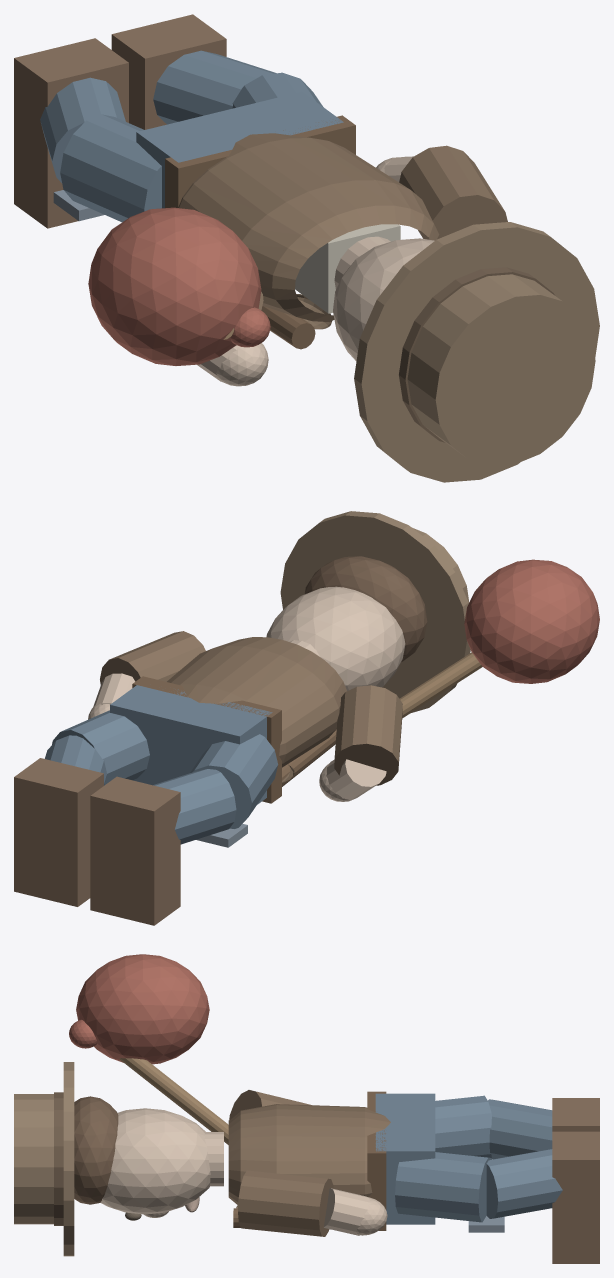
Rendered from George_walk_04.glb.
3 renders of one model, top to bottom at view 1: azimuth 30°, elevation 25°; view 2: azimuth 150°, elevation 25°; view 3: azimuth 270°, elevation 25°, orthographic. The views are drawn at different scales.
Visible parts, largest first — view 1: hat_crown, worn_cream_work_shirt, tied_cloth_bindle, weathered_felt_hat_brim, work_boot_-1, denim_thigh_-1, faded_blue_denim_waist, rolled_shirt_sleeve_1, work_boot_1, denim_calf_1, fair_skin_face, denim_calf_-1 (+8 smaller); view 2: tied_cloth_bindle, weathered_felt_hat_brim, work_boot_-1, worn_cream_work_shirt, work_boot_1, fair_skin_face, faded_blue_denim_waist, rolled_shirt_sleeve_-1, short_brown_hair, denim_thigh_-1, denim_calf_-1, denim_thigh_1 (+8 smaller); view 3: tied_cloth_bindle, worn_cream_work_shirt, fair_skin_face, work_boot_1, denim_thigh_1, hat_crown, rolled_shirt_sleeve_1, faded_blue_denim_waist, denim_calf_1, short_brown_hair, denim_thigh_-1, denim_calf_-1 (+11 smaller).
Part boxes in pixels (box(x1,y1,x2,y2)): hat_crown: box(407, 274, 595, 465); worn_cream_work_shirt: box(178, 133, 439, 329); tied_cloth_bindle: box(88, 207, 261, 365); weathered_felt_hat_brim: box(354, 222, 599, 482); work_boot_-1: box(14, 38, 128, 228); denim_thigh_-1: box(60, 114, 161, 222); faded_blue_denim_waist: box(136, 91, 343, 208); rolled_shirt_sleeve_1: box(399, 145, 507, 239); work_boot_1: box(111, 14, 226, 129); denim_calf_1: box(153, 50, 276, 124); fair_skin_face: box(333, 238, 434, 361); denim_calf_-1: box(40, 77, 125, 183); tied_cloth_bindle: box(464, 559, 599, 683); weathered_felt_hat_brim: box(280, 511, 470, 712); work_boot_-1: box(90, 776, 180, 925); worn_cream_work_shirt: box(167, 637, 346, 782); work_boot_1: box(14, 758, 103, 906); fair_skin_face: box(266, 586, 405, 690); faded_blue_denim_waist: box(110, 685, 272, 804); rolled_shirt_sleeve_-1: box(334, 685, 402, 785); short_brown_hair: box(304, 556, 427, 662); denim_thigh_-1: box(190, 734, 278, 828); denim_calf_-1: box(153, 769, 236, 844); denim_thigh_1: box(52, 710, 149, 785); tied_cloth_bindle: box(76, 954, 209, 1064); worn_cream_work_shirt: box(228, 1104, 390, 1208); fair_skin_face: box(100, 1108, 210, 1214); work_boot_1: box(552, 1131, 599, 1263); denim_thigh_1: box(395, 1152, 491, 1222); hat_crown: box(14, 1094, 53, 1224); rolled_shirt_sleeve_1: box(238, 1170, 333, 1236); faded_blue_denim_waist: box(375, 1093, 435, 1224); denim_calf_1: box(486, 1149, 562, 1218); short_brown_hair: box(74, 1096, 118, 1204); denim_thigh_-1: box(435, 1095, 491, 1158); denim_calf_-1: box(488, 1099, 552, 1159).
Bounding box in the file's own units: 1.72 × 0.93 × 2.46.
